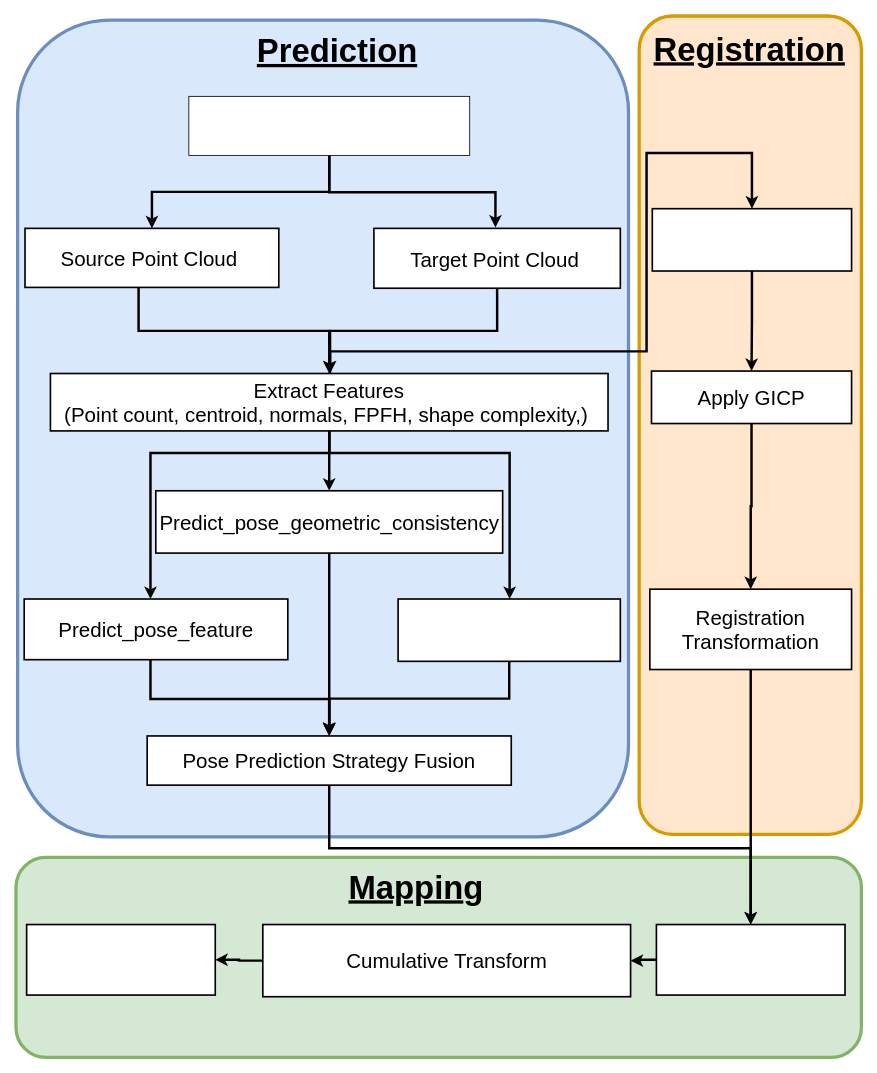
Image size: 877x1073. Some labels were removed from this diagram. Each missing label, with the box of its shape:
LiDAR Clouds: (188, 96, 470, 155)
Map: (25, 923, 216, 995)
Predict_pose_adaptive: (397, 598, 621, 662)
Uniform Voxelization: (651, 207, 852, 271)
Update State: (655, 923, 845, 995)
